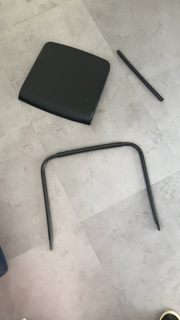C pipe: (40, 141, 164, 253)
Seat: (17, 40, 113, 129)
i pipe: (115, 50, 166, 105)
